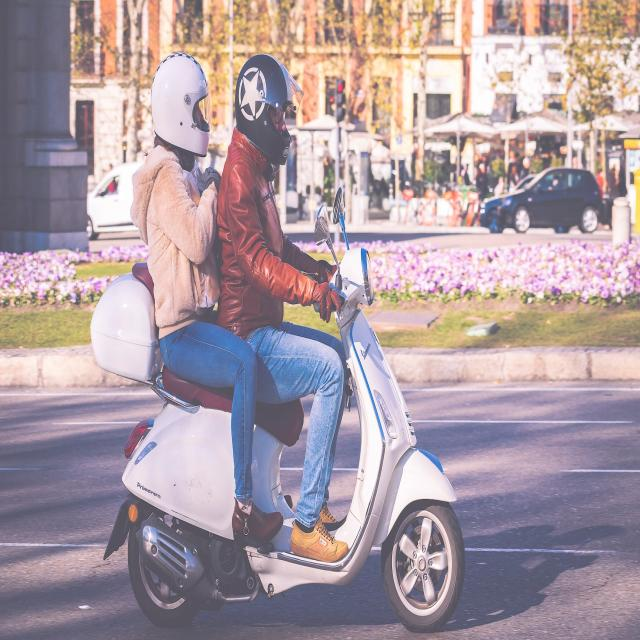With Helmet: (87, 41, 472, 640)
